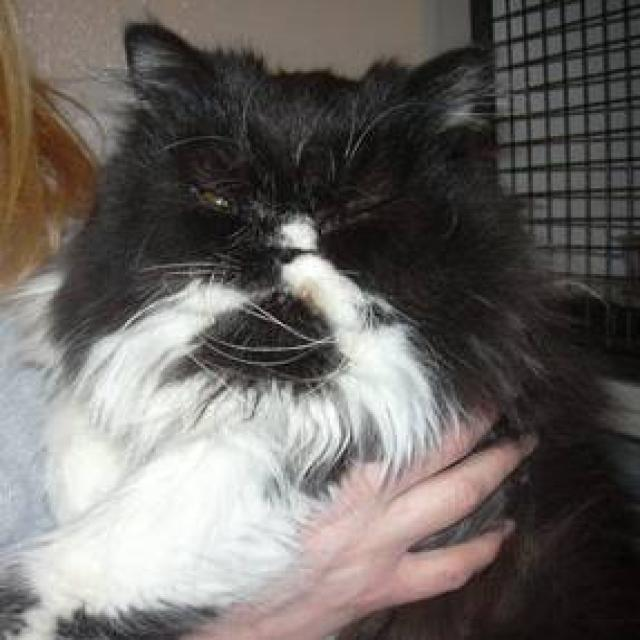cat: (0, 19, 638, 638)
